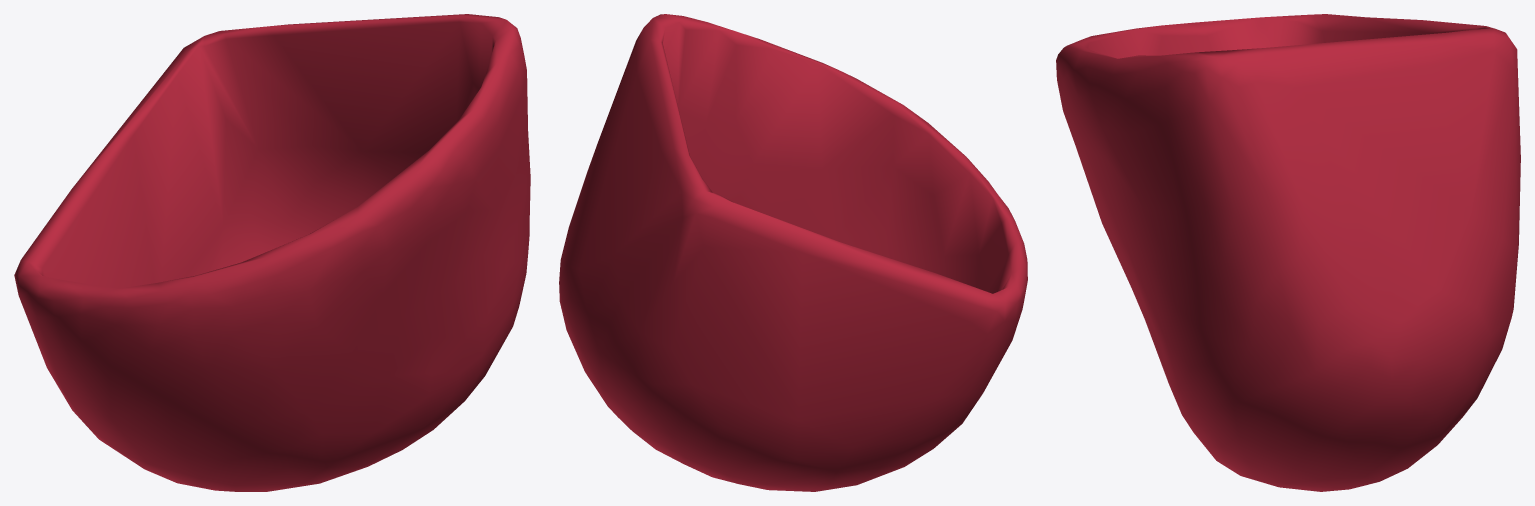
The model's file is right-coronary-leaflet.glb.
The picture shows the model from 3 angles, left to right: view 1: azimuth 30°, elevation 25°; view 2: azimuth 150°, elevation 25°; view 3: azimuth 270°, elevation 25°; orthographic projection. The views are drawn at different scales.
Visible parts, largest first — view 1: Right coronary leaflet; view 2: Right coronary leaflet; view 3: Right coronary leaflet.
Part boxes in pixels (box(x1,y1,x2,y2)): Right coronary leaflet: box(14, 14, 530, 491); Right coronary leaflet: box(559, 14, 1027, 491); Right coronary leaflet: box(1056, 14, 1520, 491).
Size of the model in its own units: 0.0193 by 0.0167 by 0.014.
